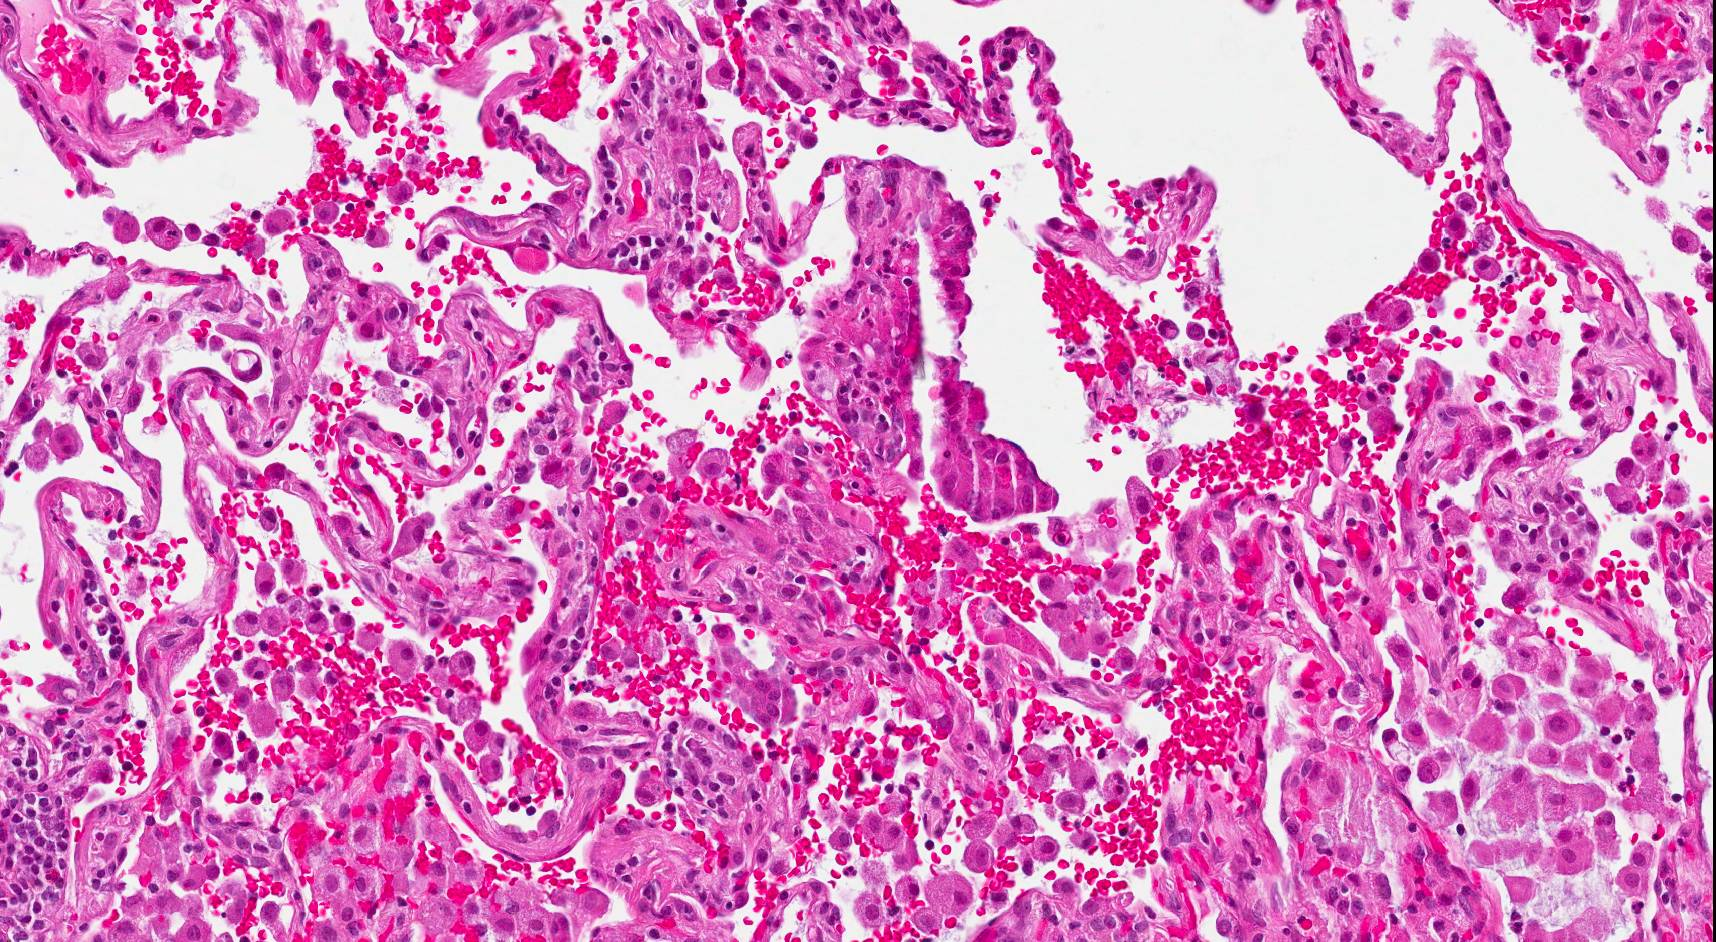stas: (923, 349, 1068, 522)
